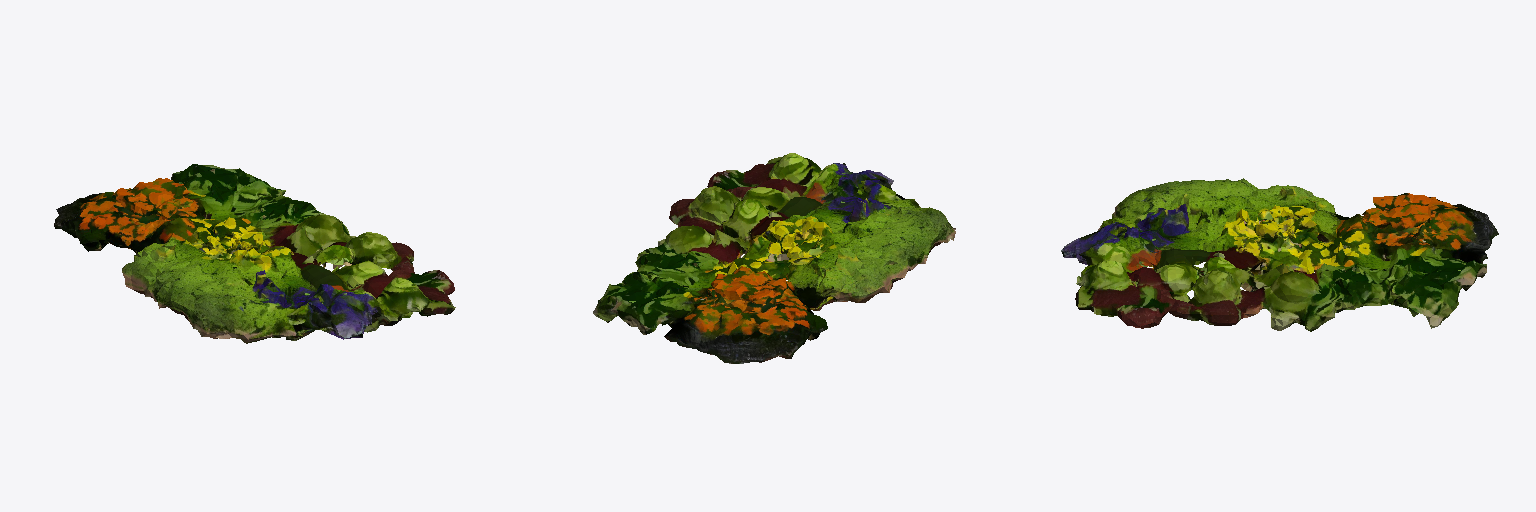
3 renders of one model, left to right at view 1: azimuth 30°, elevation 25°; view 2: azimuth 150°, elevation 25°; view 3: azimuth 270°, elevation 25°, orthographic.
Visible parts, largest first — view 1: tripo_node_26fb08d1-304b-4163-be17-[number redacted]; view 2: tripo_node_26fb08d1-304b-4163-be17-[number redacted]; view 3: tripo_node_26fb08d1-304b-4163-be17-[number redacted].
Part boxes in pixels (x1,y1,x2,y2): tripo_node_26fb08d1-304b-4163-be17-[number redacted]: (54,164,455,343); tripo_node_26fb08d1-304b-4163-be17-[number redacted]: (593,153,955,363); tripo_node_26fb08d1-304b-4163-be17-[number redacted]: (1061,178,1498,331).
Size of the model in its own units: 0.6295 by 0.1445 by 0.9398.
Materials: 1 (1 with a texture image).